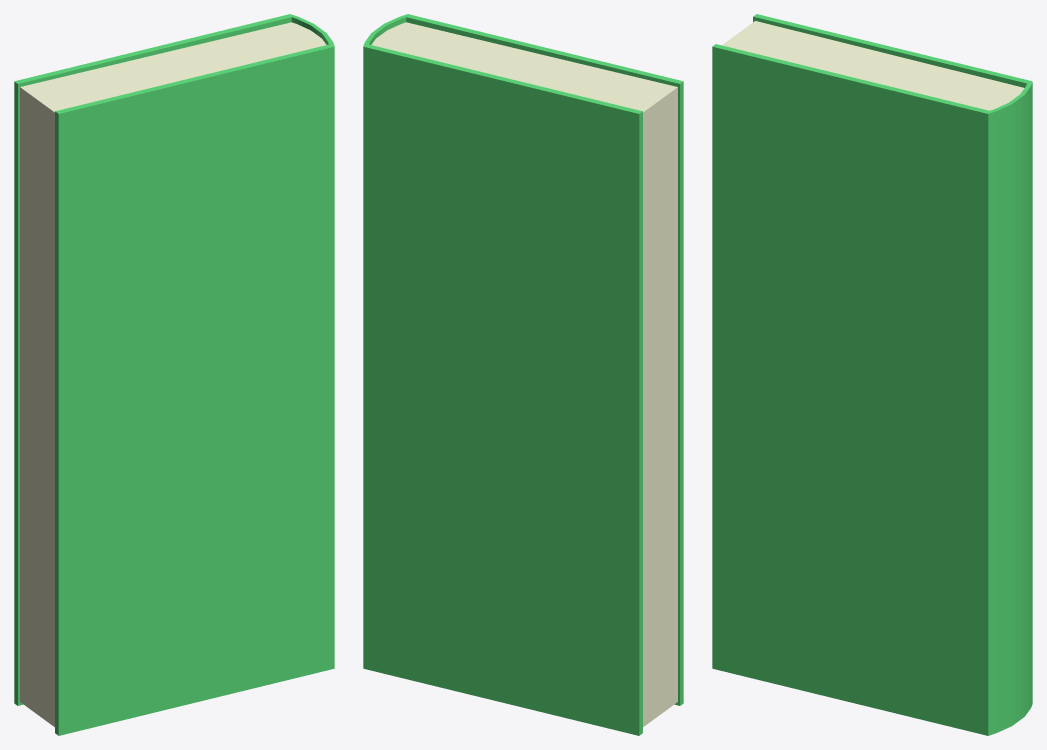
Rendered from newbook2.fbx.
3 views of the same model, side by side, from view 1: azimuth 30°, elevation 25°; view 2: azimuth 150°, elevation 25°; view 3: azimuth 330°, elevation 25° (orthographic).
Visible parts, largest first — view 1: Book2; view 2: Book2; view 3: Book2.
Boxes of the visible parts, x1=… form: Book2: x1=14, y1=14, x2=334, y2=735; Book2: x1=363, y1=14, x2=683, y2=735; Book2: x1=712, y1=14, x2=1032, y2=735.
Bounding box in the file's own units: 11.08 × 23.2 × 3.02.
